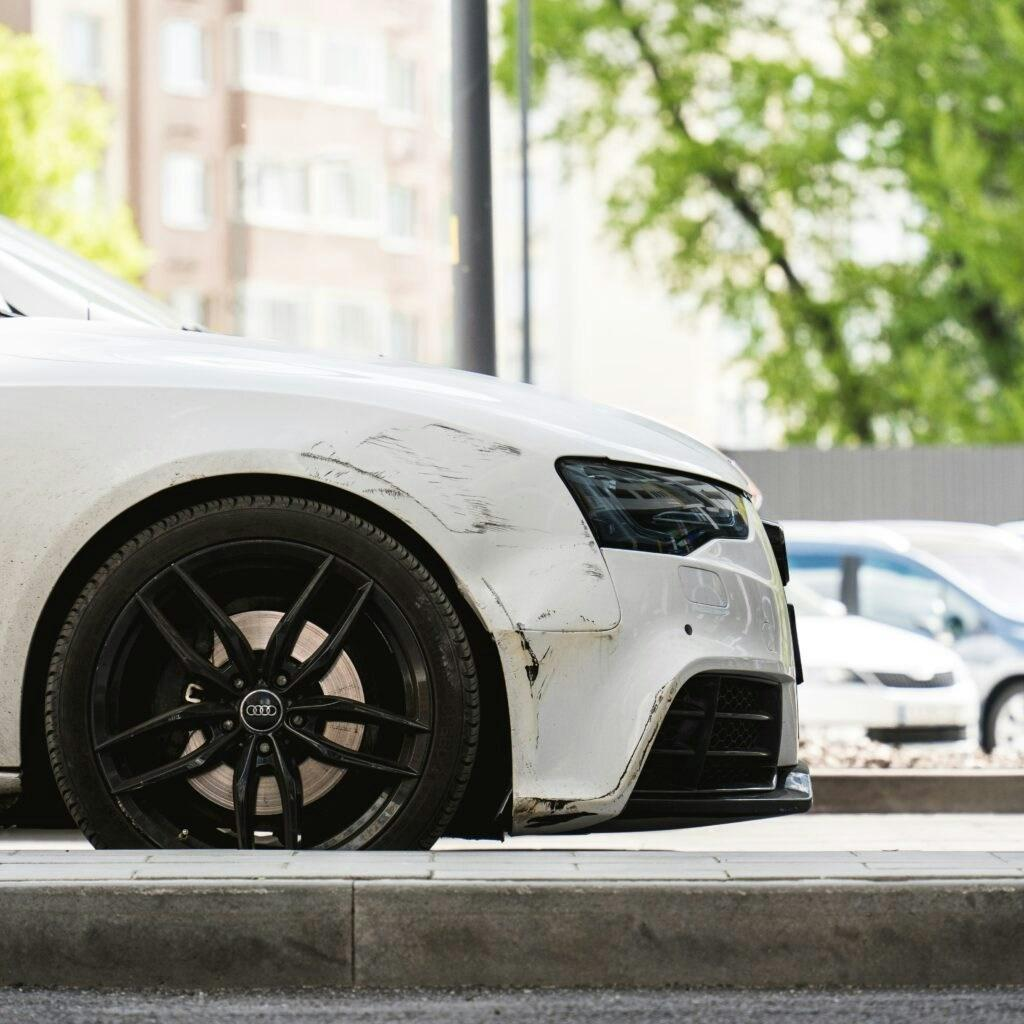scratch: (283, 408, 680, 835)
